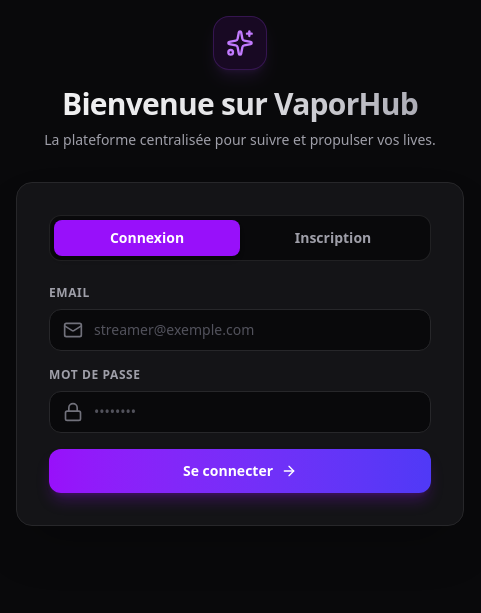
🧩 Vue : AuthView.vue › doit afficher un message d'erreur si la connexion échoue
In the field with placeholder "streamer@exemple.com": [240, 330] box [49, 309, 431, 351], type "user@test.com"
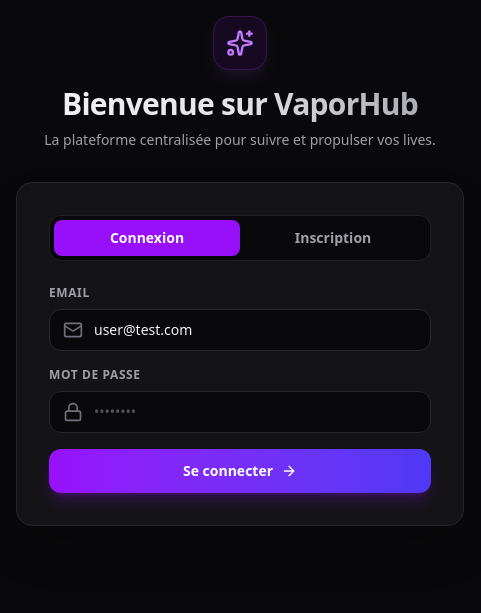
In the password field with placeholder "••••••••": [240, 412] box [49, 391, 431, 433], type "FauxPassword"
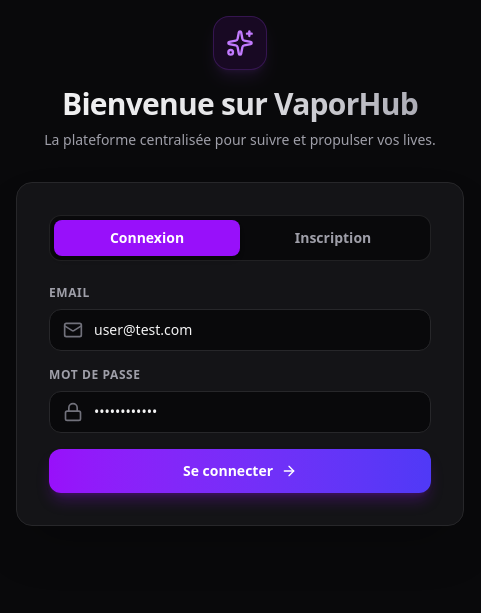
Submit the form, box [49, 285, 431, 493]
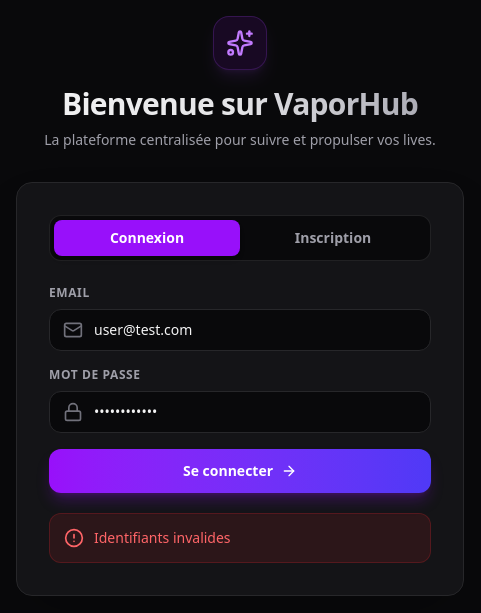
Check: the text "Identifiants invalides" is shown, box [94, 528, 231, 548]
